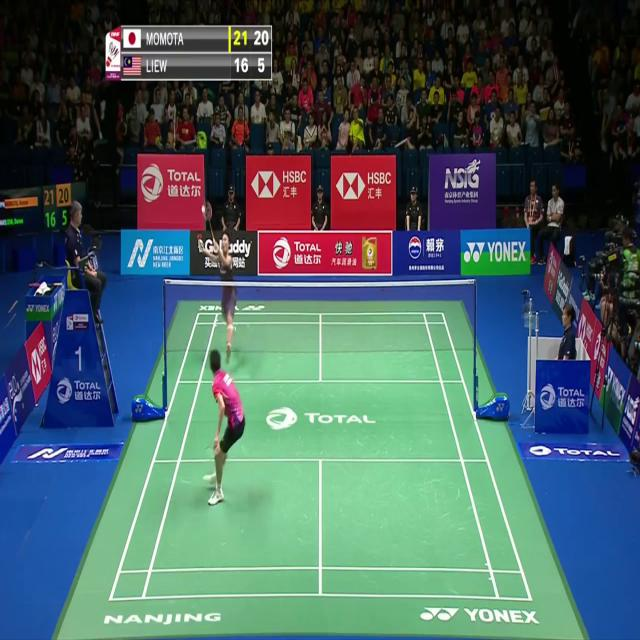Shuttlecock: (200, 204, 207, 216)
